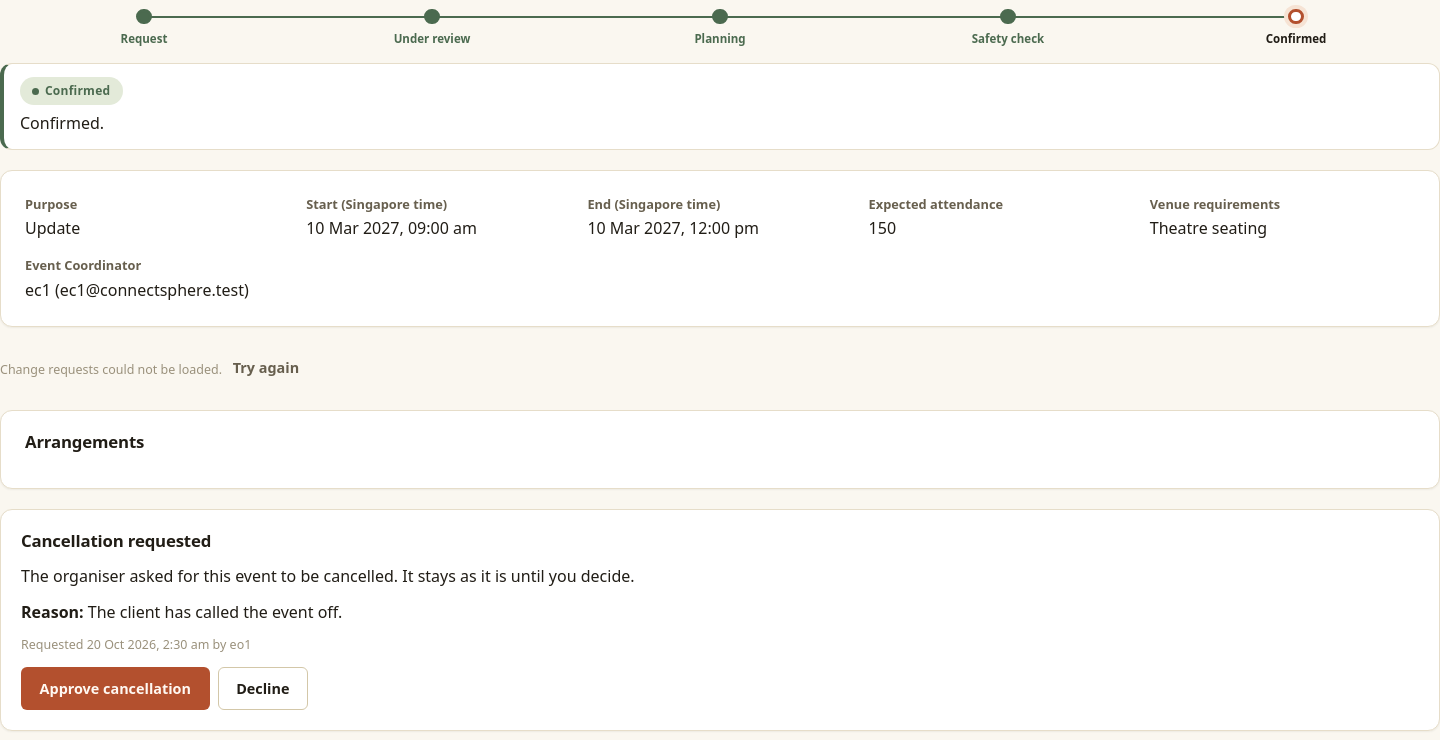
Scenario: EO07 the assigned coordinator decides; the Lead only reads › EO07 AC9 (negative): declining without a reason is refused with a message and nothing is sent
Click the button "Decline" at (263, 688), box [218, 667, 308, 710]
(page scrolled)
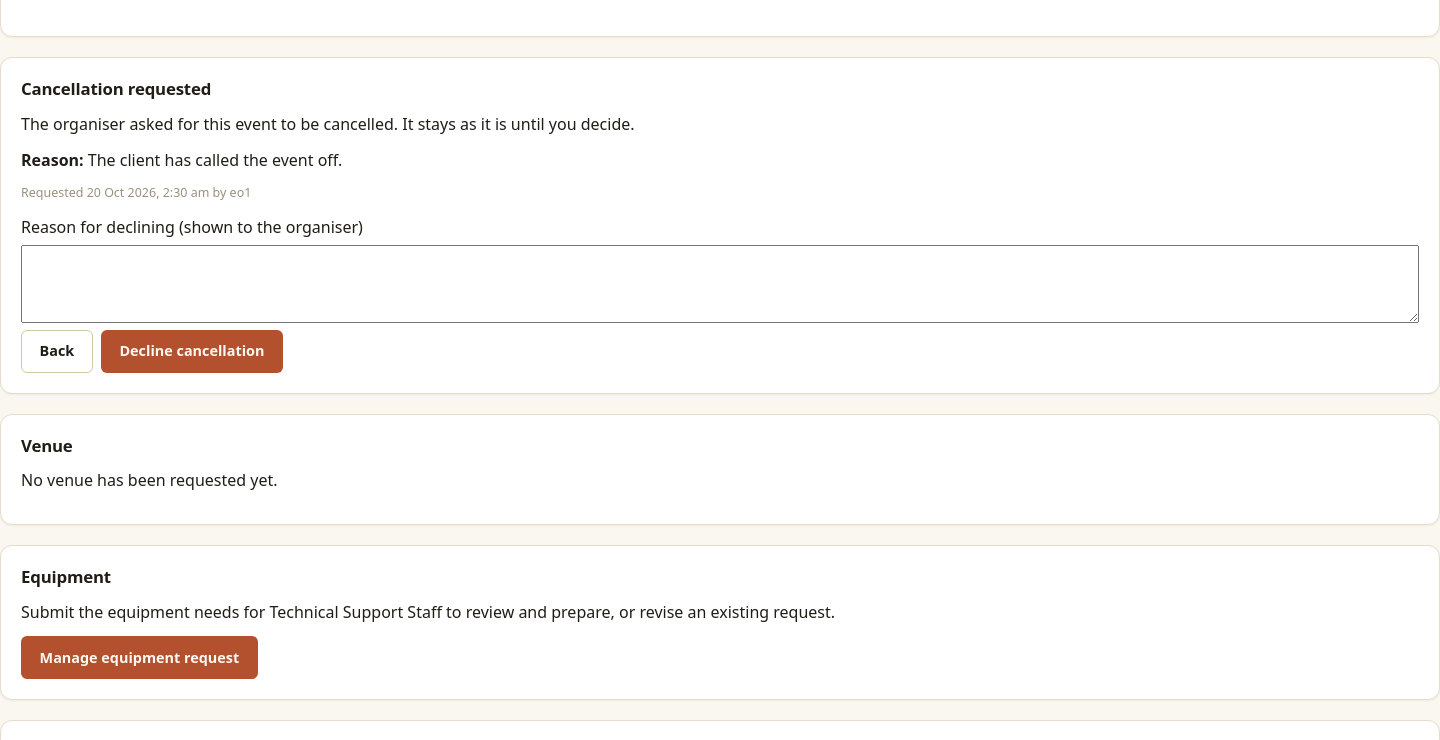
Click the button "Decline cancellation" at (192, 351), box [101, 330, 283, 372]
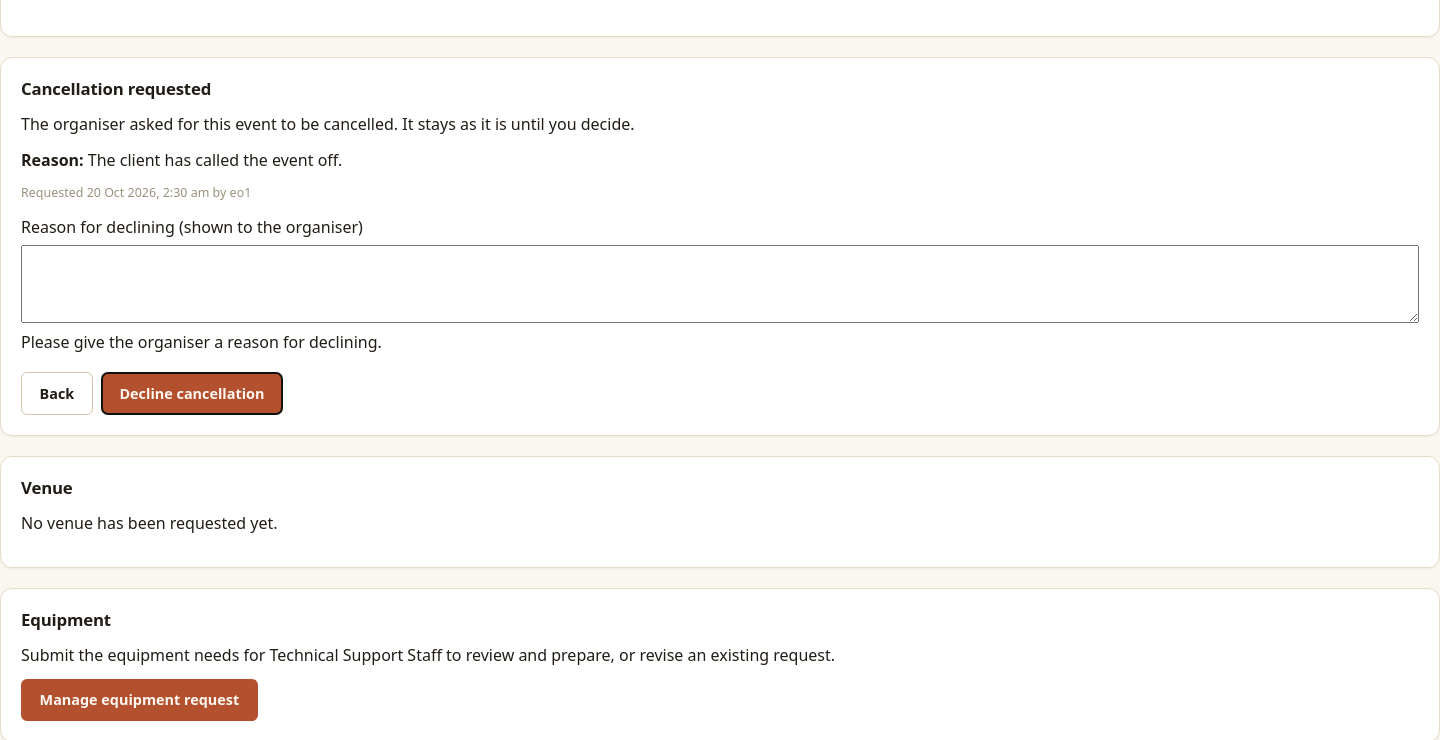
expect the message reads "Please give the organiser a reason for declining.": met, box [21, 331, 382, 353]
